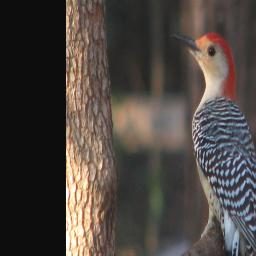Woodpecker: (168, 30, 256, 256)
